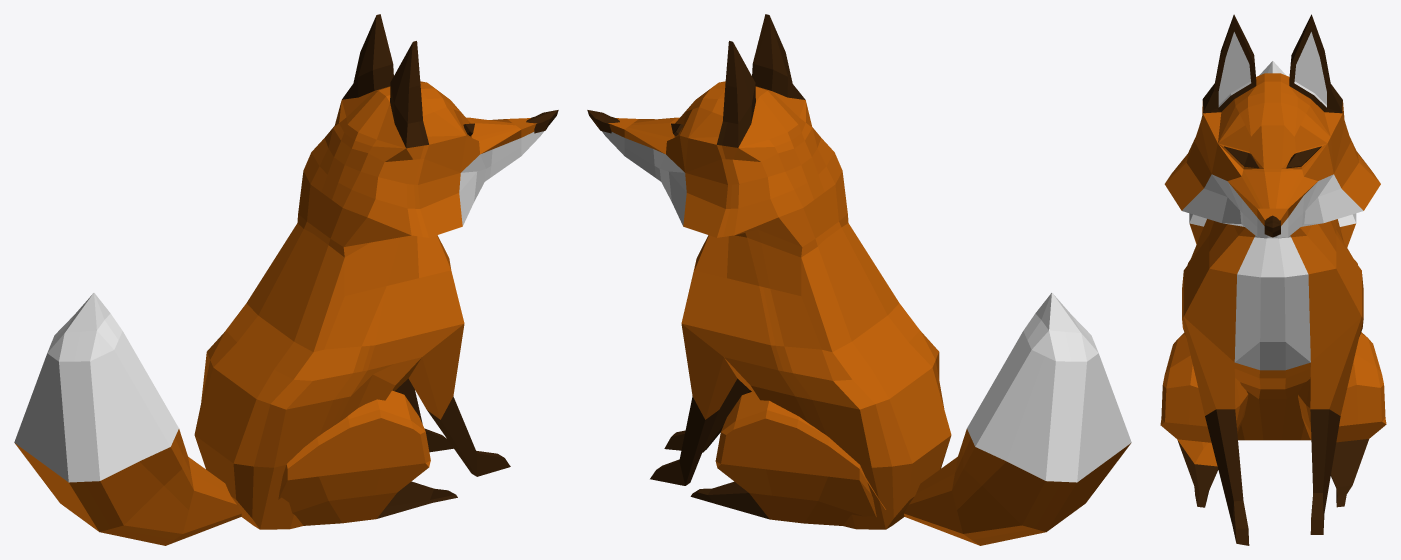
The model's file is Fox.glb.
The picture shows the model from 3 angles, left to right: view 1: azimuth 30°, elevation 25°; view 2: azimuth 150°, elevation 25°; view 3: azimuth 270°, elevation 25°; orthographic projection. The views are drawn at different scales.
Visible parts, largest first — view 1: Fox; view 2: Fox; view 3: Fox.
Part boxes in pixels (<box>): Fox: <box>14,14,558,545</box>; Fox: <box>587,14,1131,545</box>; Fox: <box>1160,14,1386,545</box>.
Size of the model in its own units: 8.02 by 6.71 by 2.86.
